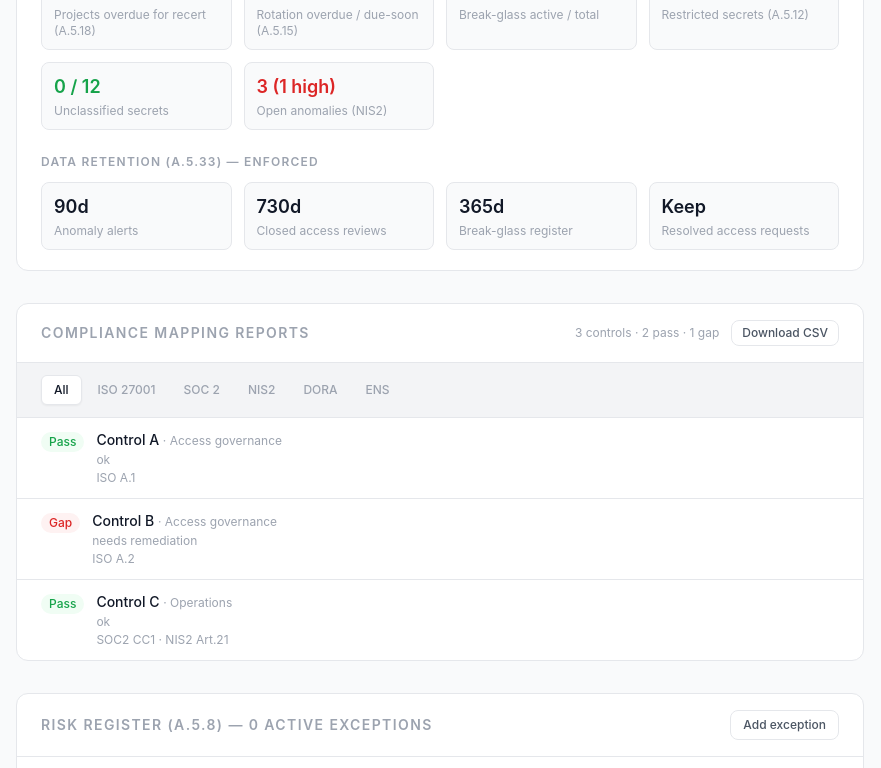
Scenario: CompliancePage posture panel › filters the control matrix by framework, shows a per-framework score, remediation note, and empty state
(page scrolled)
Check: the heading "Compliance mapping reports" is shown, box [41,323,310,343]
Check: the text "SOC2 CC1 · NIS2 Art.21" is shown, box [96,632,232,648]
Step 1. Click the button "ISO 27001" → [127, 390], box [86,376,168,404]
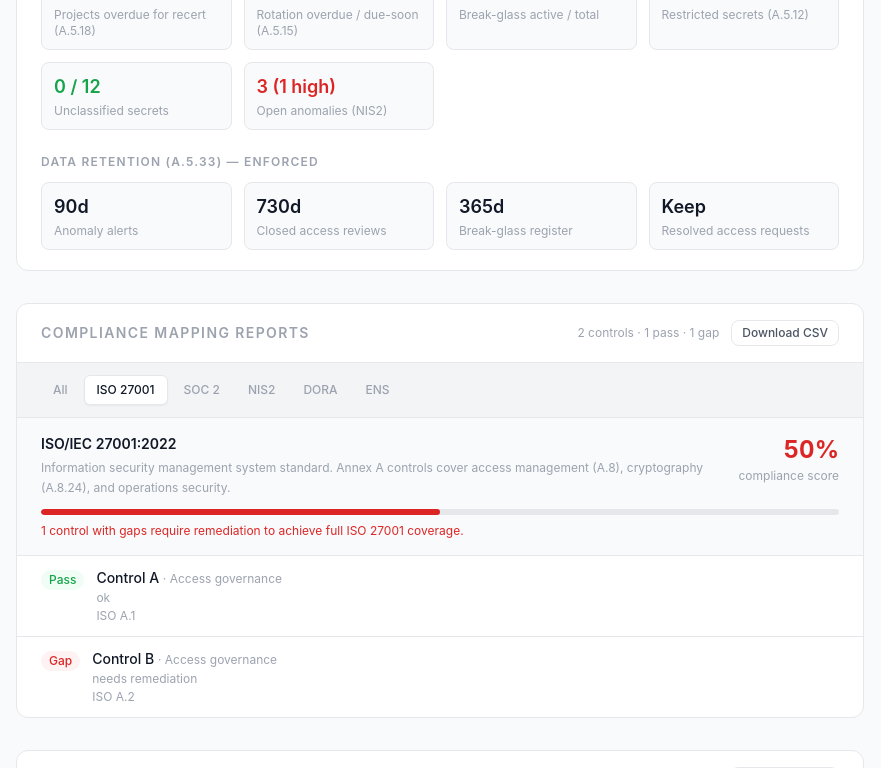
Check: the text "ISO/IEC 27001:2022" is shown, box [41,435,176,452]
Check: the text "50%" is shown, box [784,435,839,464]
Check: the text "1 control with gaps require remediation" is shown, box [41,523,464,538]
Step 2. Click the button "ENS" → [378, 390], box [354,376,402,404]
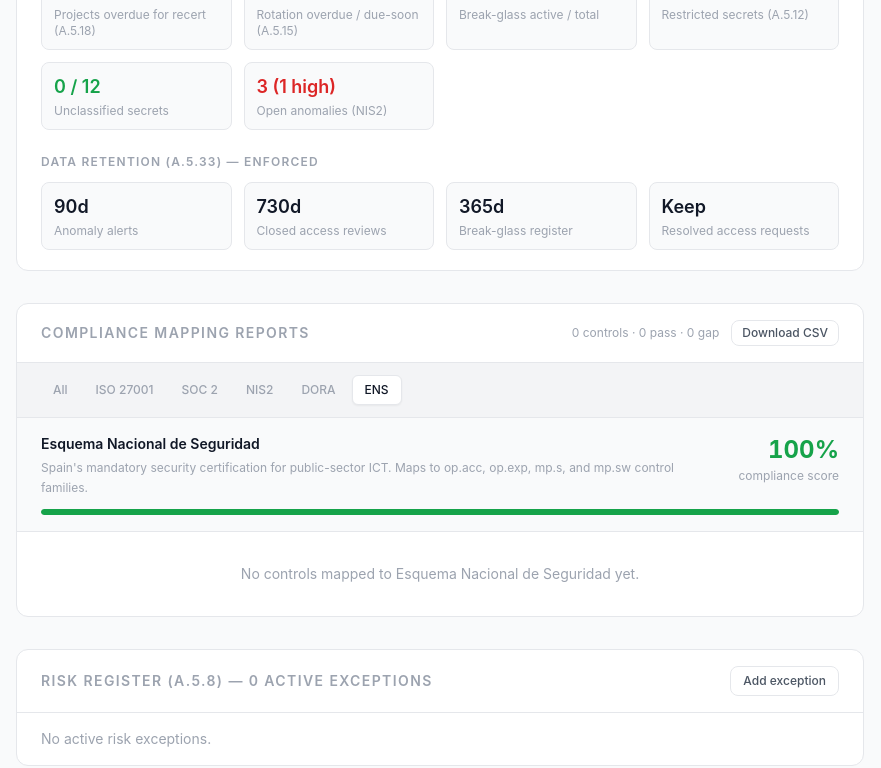
Check: the text "No controls mapped to Esquema Nacional de Seguridad yet." is shown, box [241,565,639,582]
